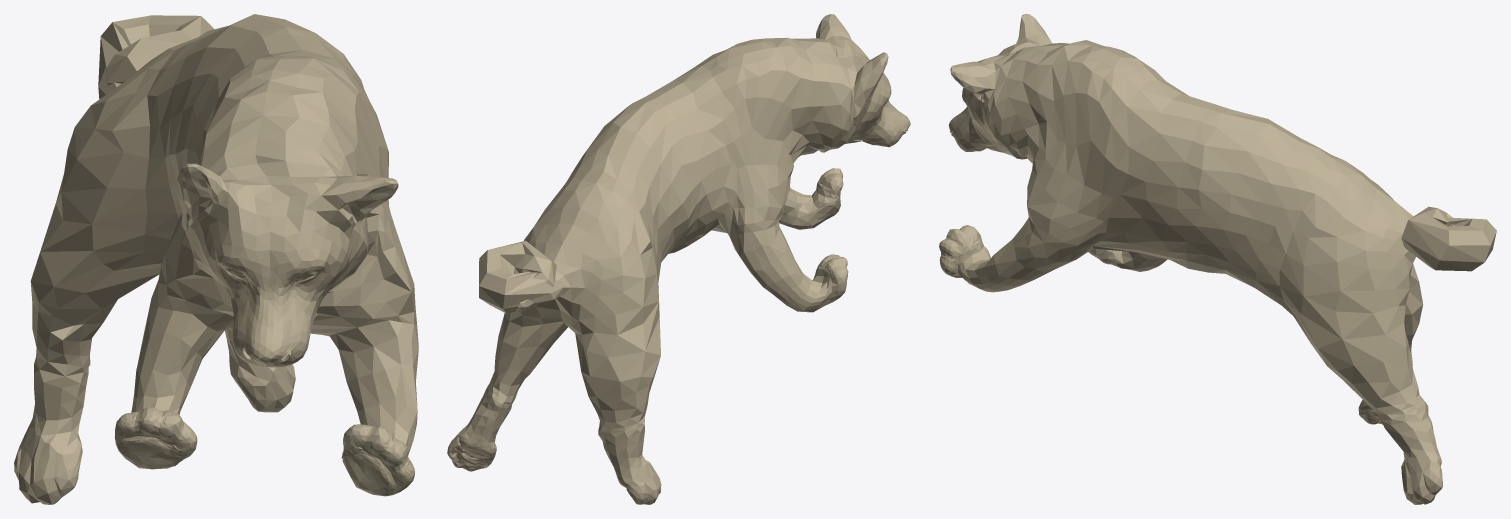
3 views of the same model, side by side, from view 1: azimuth 30°, elevation 25°; view 2: azimuth 150°, elevation 25°; view 3: azimuth 270°, elevation 25° (orthographic). The views are drawn at different scales.
Parts seen in each view (by area): view 1: world; view 2: world; view 3: world.
Boxes of the visible parts, x1,y1,x2,y2 form: world: [14, 14, 418, 504]; world: [447, 14, 910, 504]; world: [939, 14, 1496, 504].
Bounding box in the file's own units: 0.6531 × 0.8866 × 1.17.
